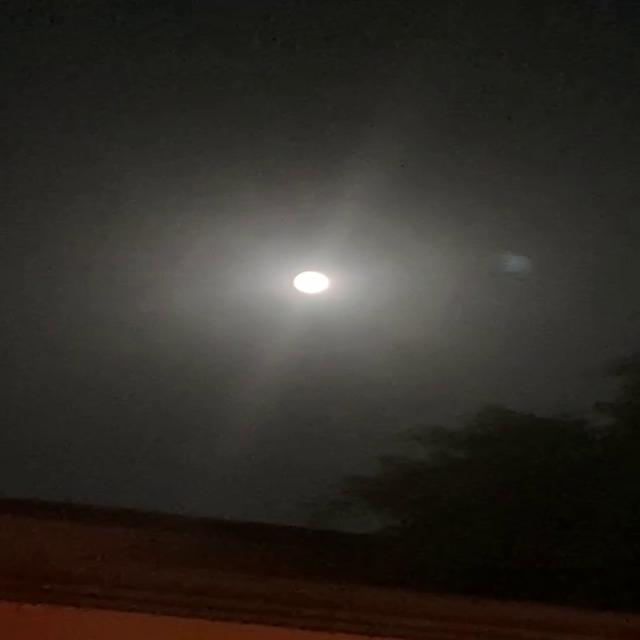moon: (287, 267, 345, 299)
